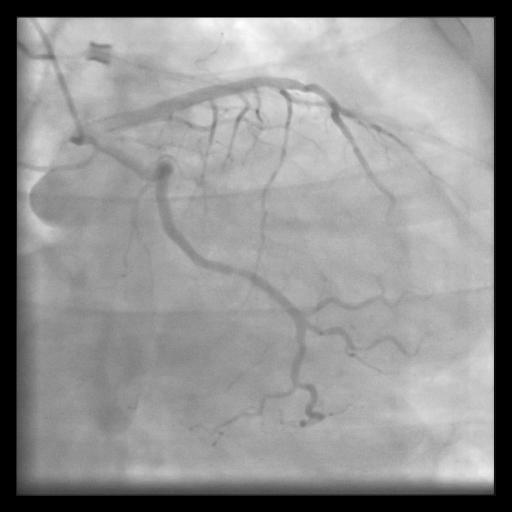Stenosis: (228, 263, 245, 277)
